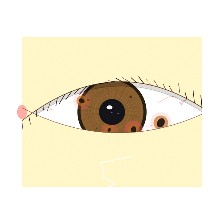foreign_body_visible: (116, 116, 151, 143)
